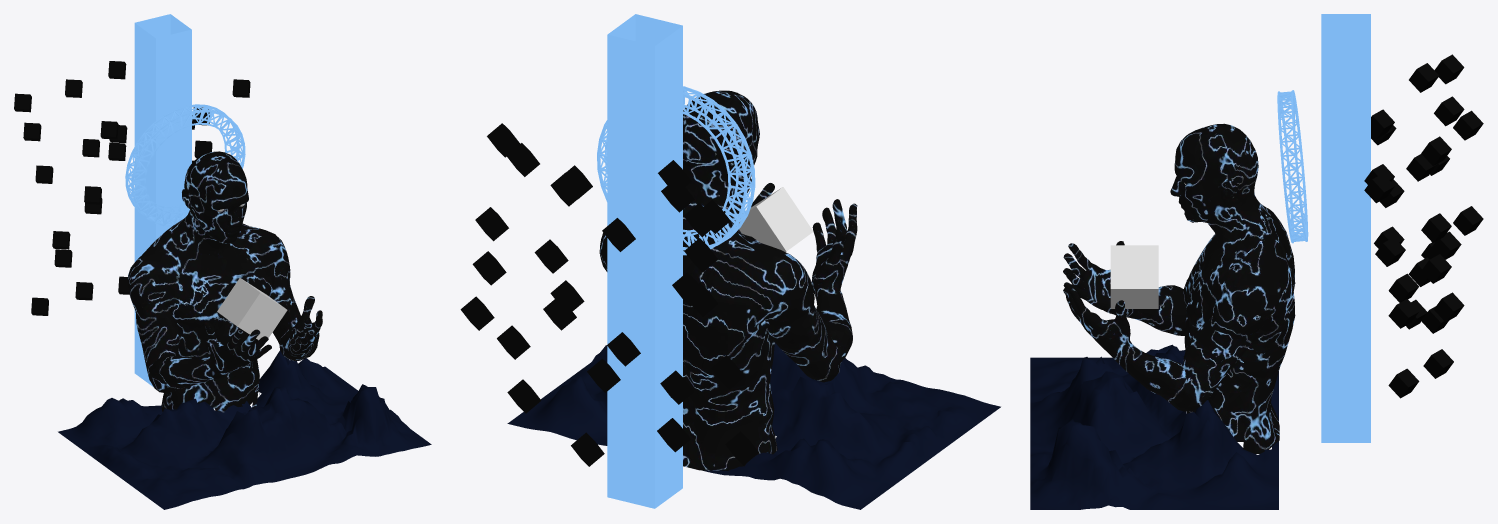
The model's file is Demon-transformed-opt.glb.
The picture shows the model from 3 angles, left to right: view 1: azimuth 30°, elevation 25°; view 2: azimuth 150°, elevation 25°; view 3: azimuth 270°, elevation 25°; orthographic projection. The views are drawn at different scales.
Parts seen in each view (by area): view 1: Landscape, Man, Pillar, Box_002, Truss_Bridge, Box_001; view 2: Man, Pillar, Landscape, Box_002, Truss_Bridge, Box_001; view 3: Man, Landscape, Pillar, Box_002, Box_001, Truss_Bridge.
Part boxes in pixels (bbox=[...]): Landscape: bbox=[58, 350, 431, 509]; Man: bbox=[127, 151, 322, 412]; Pillar: bbox=[134, 14, 191, 386]; Box_002: bbox=[14, 61, 250, 315]; Truss_Bridge: bbox=[125, 104, 245, 226]; Box_001: bbox=[217, 278, 287, 339]; Man: bbox=[599, 90, 857, 470]; Pillar: bbox=[607, 14, 682, 508]; Landscape: bbox=[507, 342, 1000, 509]; Box_002: bbox=[460, 123, 758, 466]; Truss_Bridge: bbox=[597, 86, 755, 255]; Box_001: bbox=[735, 187, 813, 251]; Man: bbox=[1063, 123, 1295, 453]; Landscape: bbox=[1030, 344, 1278, 509]; Pillar: bbox=[1321, 14, 1370, 442]; Box_002: bbox=[1364, 54, 1483, 398]; Box_001: bbox=[1110, 245, 1158, 308]; Truss_Bridge: bbox=[1277, 90, 1308, 243].
Size of the model in its own units: 2.42 by 3.04 by 3.05.
Materials: 7 (1 with a texture image).
